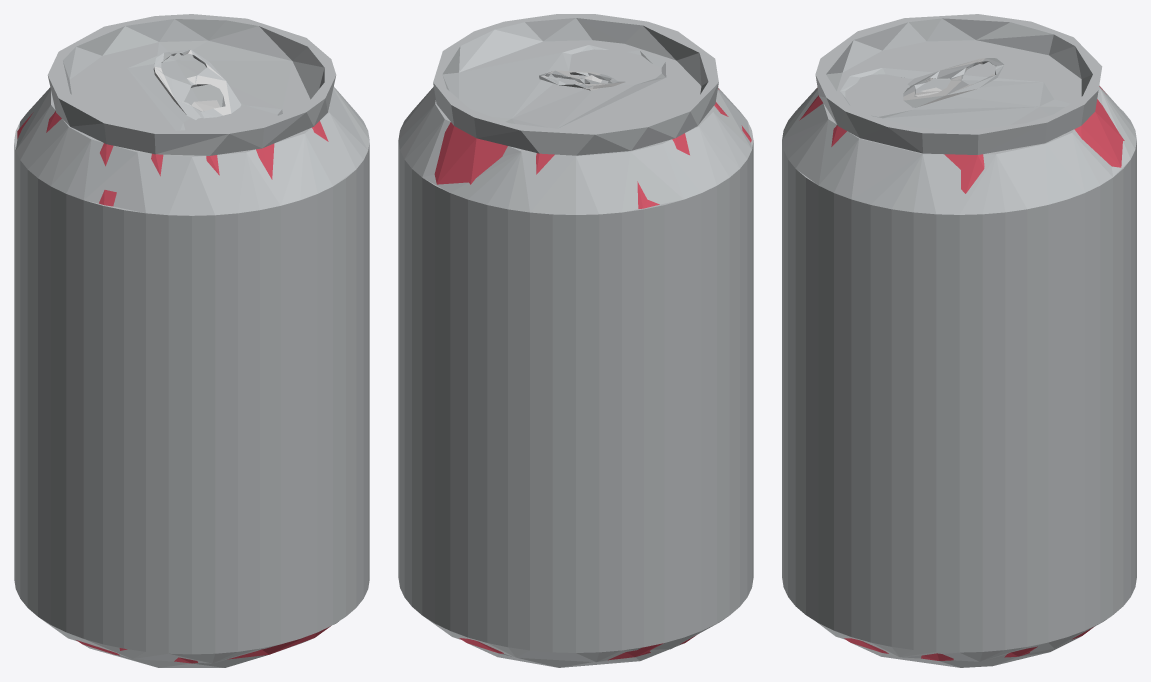
The model's file is soda.glb.
3 renders of one model, left to right at view 1: azimuth 30°, elevation 25°; view 2: azimuth 150°, elevation 25°; view 3: azimuth 270°, elevation 25°, orthographic.
Visible parts, largest first — view 1: Mesh_Mesh_head_geo001_lambert2SG001; view 2: Mesh_Mesh_head_geo001_lambert2SG001; view 3: Mesh_Mesh_head_geo001_lambert2SG001.
Boxes of the visible parts, left/top/right/bottom form: Mesh_Mesh_head_geo001_lambert2SG001: left=14, top=14, right=369, bottom=667; Mesh_Mesh_head_geo001_lambert2SG001: left=398, top=14, right=753, bottom=667; Mesh_Mesh_head_geo001_lambert2SG001: left=782, top=14, right=1136, bottom=667.
Bounding box in the file's own units: 50.5 × 85.88 × 50.5.
